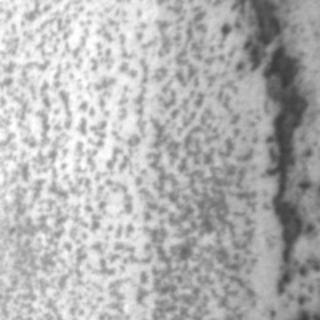patches: (246, 32, 310, 298)
pitted_surface: (0, 1, 252, 316)
